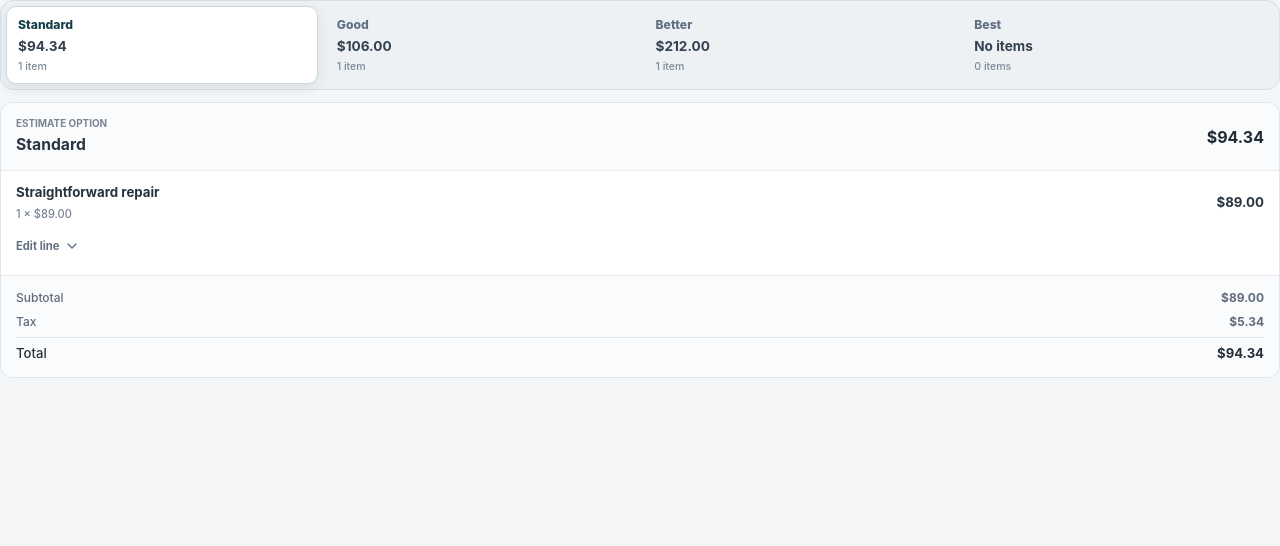
Test case: estimate option workspace › keeps unsaved draft prices out of the displayed total and surfaces persistence errors
This screenshot has width=1280, height=546.
Click the heading "Edit line" at {"x": 48, "y": 246}, box [16,238,80,254]
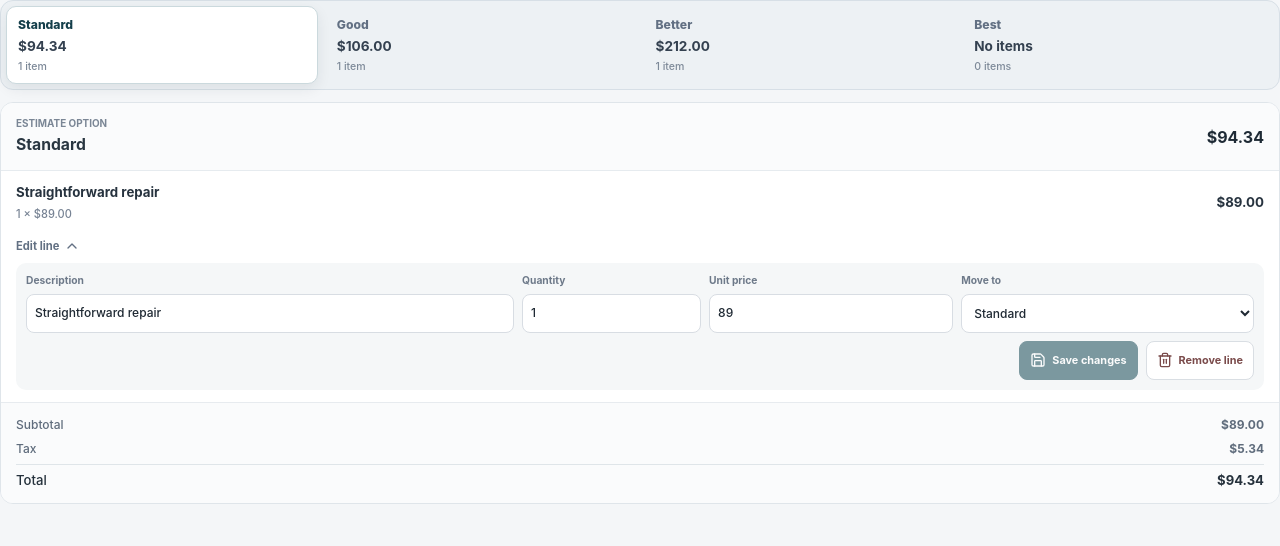
Replace the text in the number field named "Unit price for Straightforward repair" with "999" at {"x": 831, "y": 313}, box [709,294,953,333]
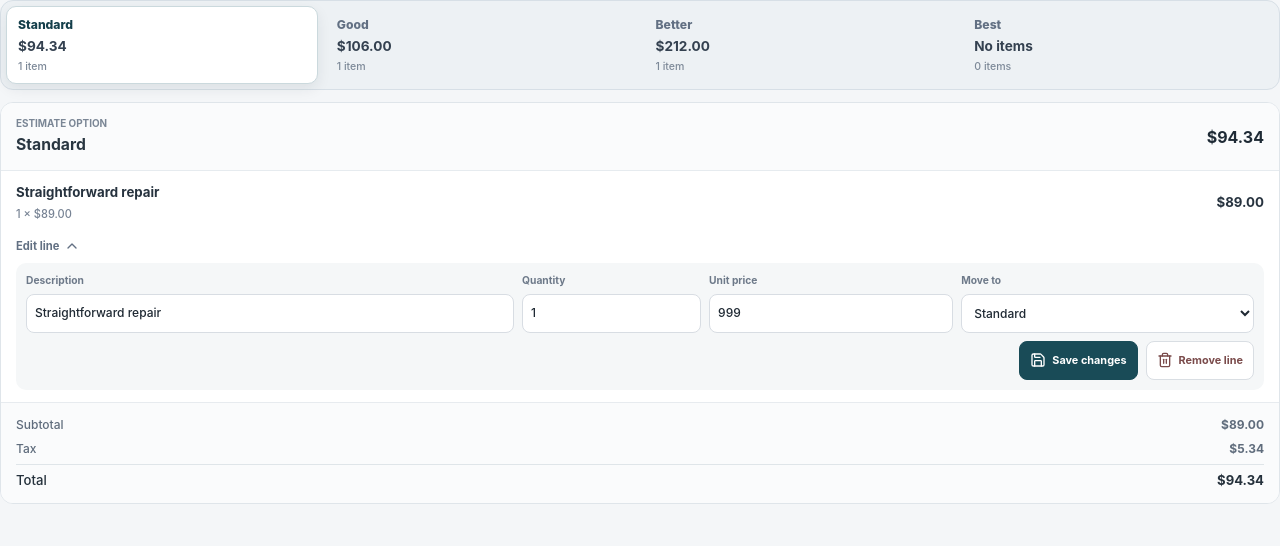
Check: the 1st text "$94.34" is shown, box [18,38,67,54]
Click the button "Save changes" at {"x": 1078, "y": 360}, box [1019,341,1138,380]
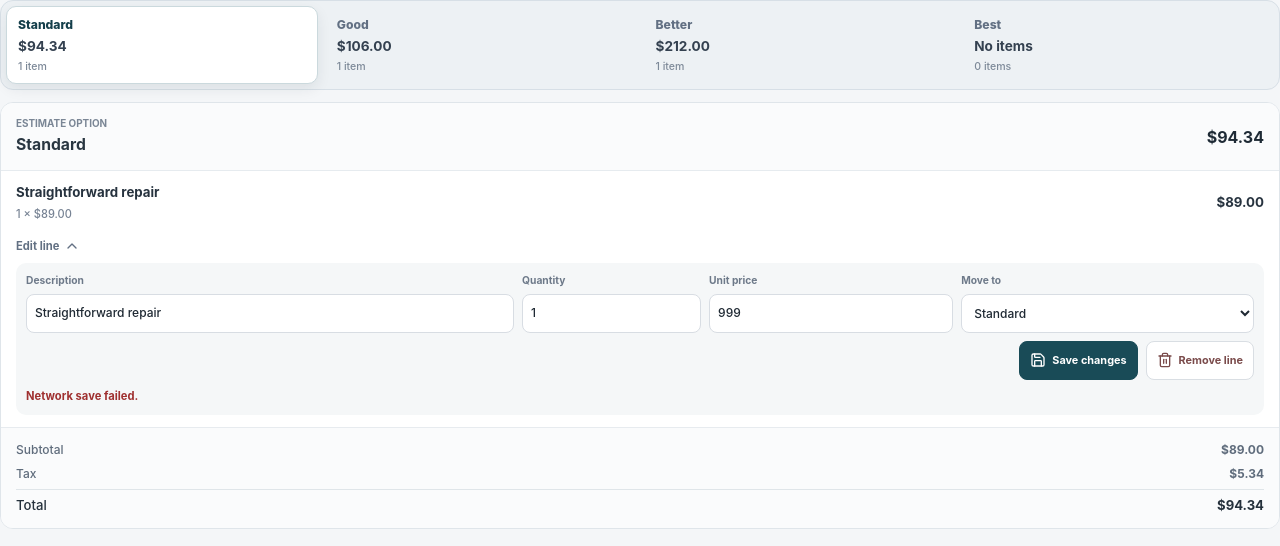
Check: the 1st text "$94.34" is shown, box [18,38,67,54]
Check: the message reads "Network save failed.", box [26,389,138,403]
